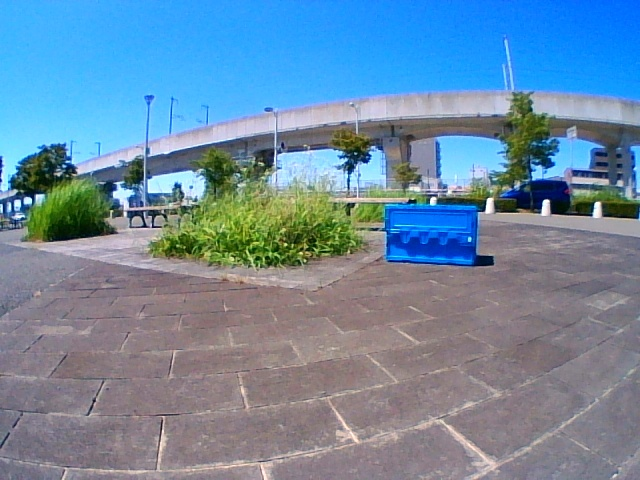blue_box: (386, 206, 476, 261)
